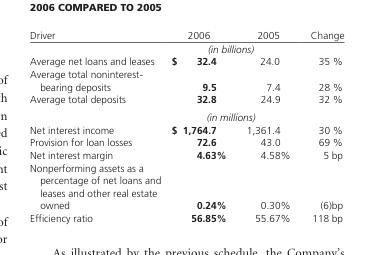table: (29, 28, 343, 223)
table column: (29, 28, 165, 223), (165, 28, 235, 223), (235, 28, 299, 223), (299, 28, 343, 223)
table column header: (29, 28, 343, 54)
table row: (29, 160, 343, 211), (29, 67, 343, 92), (29, 92, 343, 107), (29, 107, 343, 122), (29, 28, 343, 41), (29, 41, 343, 54), (29, 54, 343, 67), (29, 122, 343, 135), (29, 135, 343, 148), (29, 148, 343, 160), (29, 211, 343, 223)
table spanning cell: (29, 28, 165, 54), (165, 107, 299, 122), (165, 41, 299, 54), (299, 28, 343, 54)
